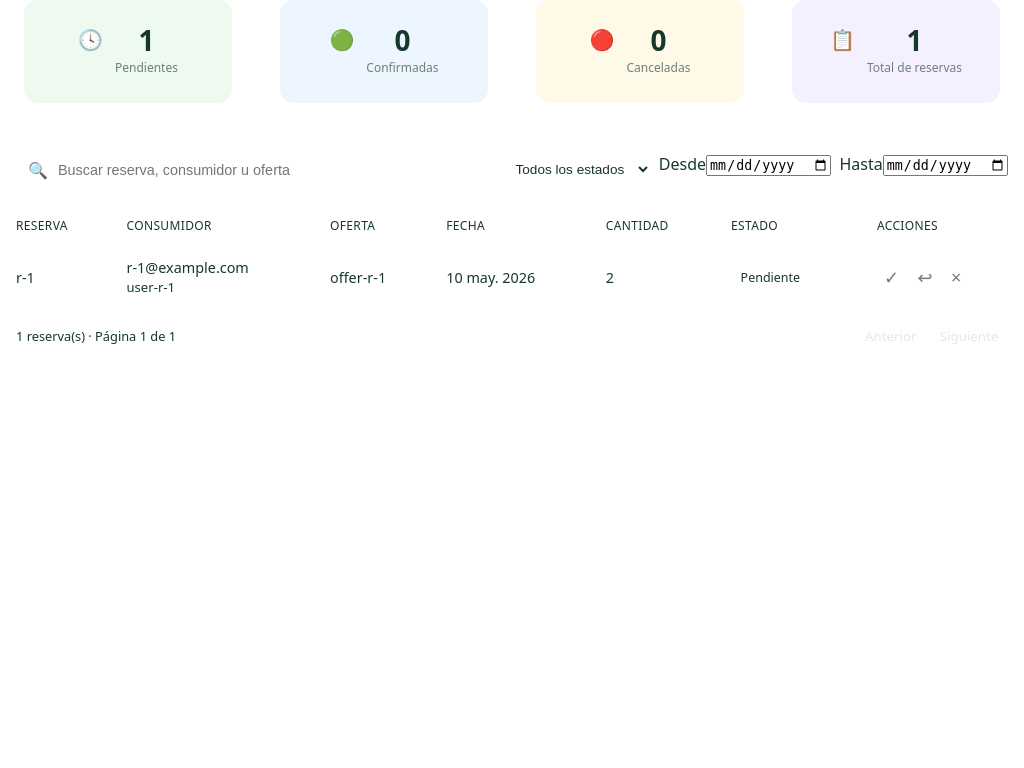
Test case: ReservationsPanel › reports failed status changes and keeps the reservation unchanged
Click the button named "Cancelar reserva r-1". click: (925, 277)
box: left=910, top=262, right=940, bottom=292
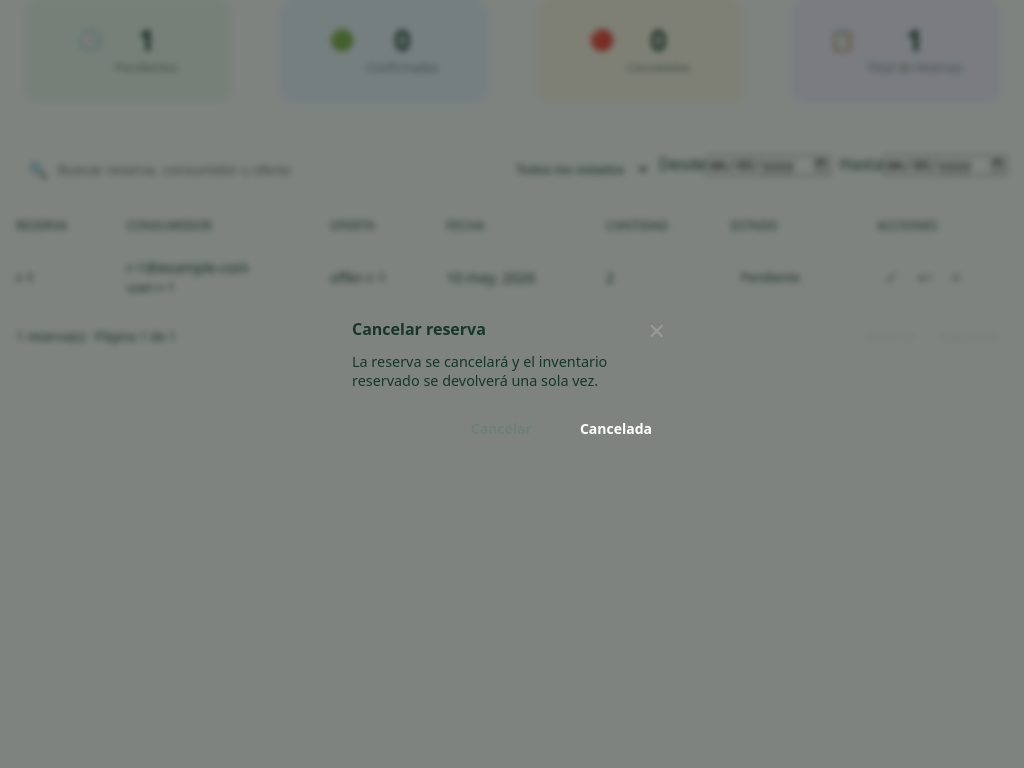
Expected: the dialog shows "inventario reservado se devolverá", left=352, top=352, right=607, bottom=390
Click the button "Cancelada". click: (616, 429)
box: left=560, top=407, right=672, bottom=450
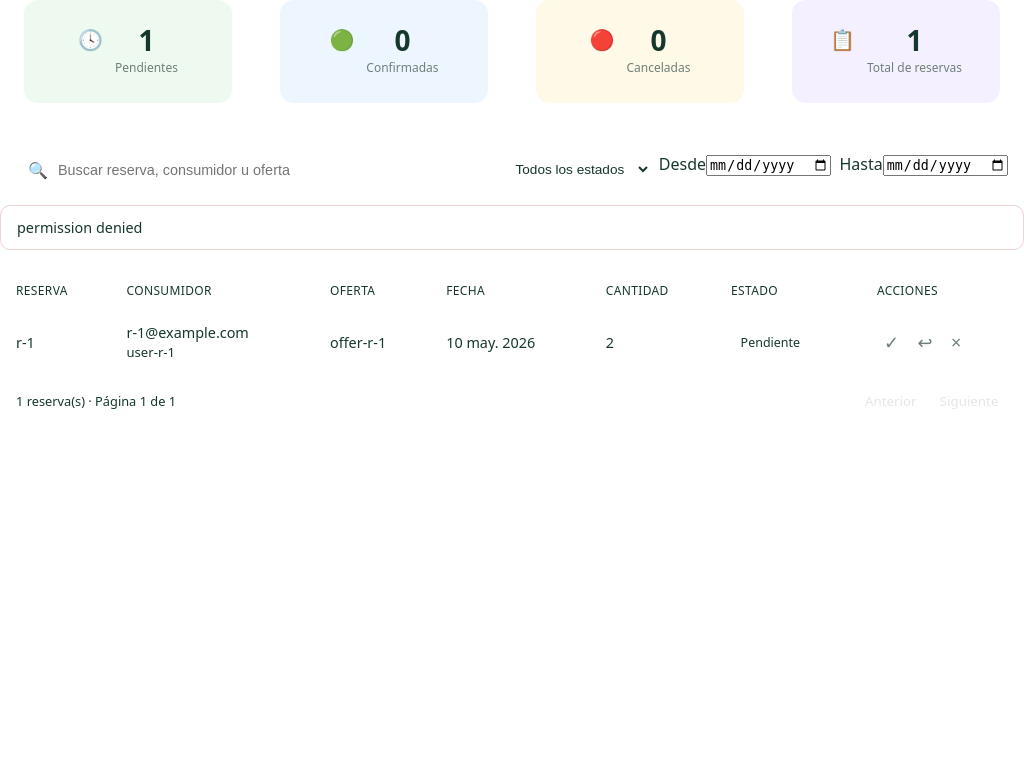
Expected: the text "Pendiente" is shown, left=741, top=334, right=800, bottom=351
Expected: the message "permission denied" is shown, left=0, top=205, right=1023, bottom=250
Expected: the dialog is gone
